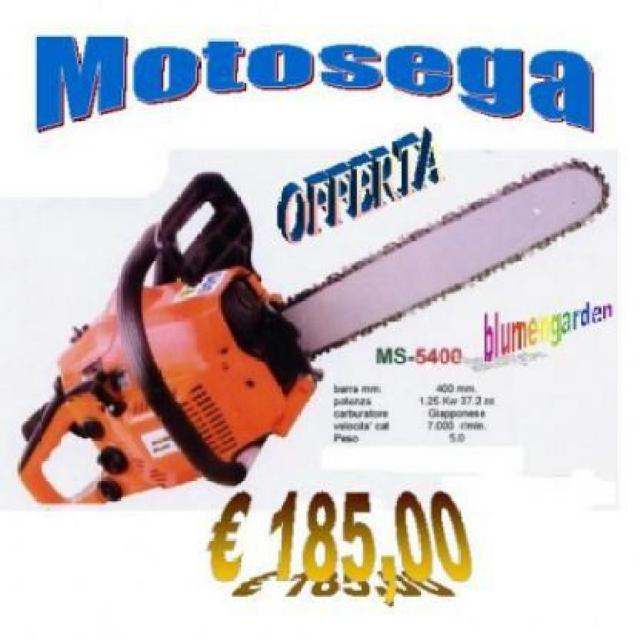Chainsaw: (11, 130, 615, 522)
